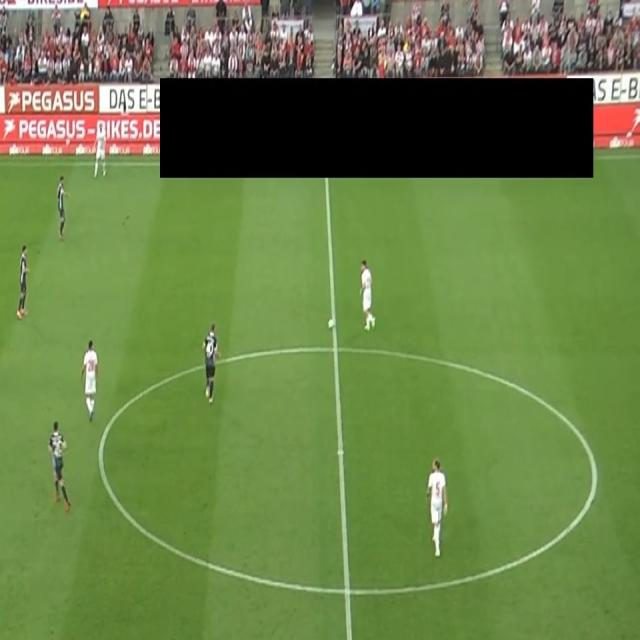ball: (327, 317, 336, 331)
